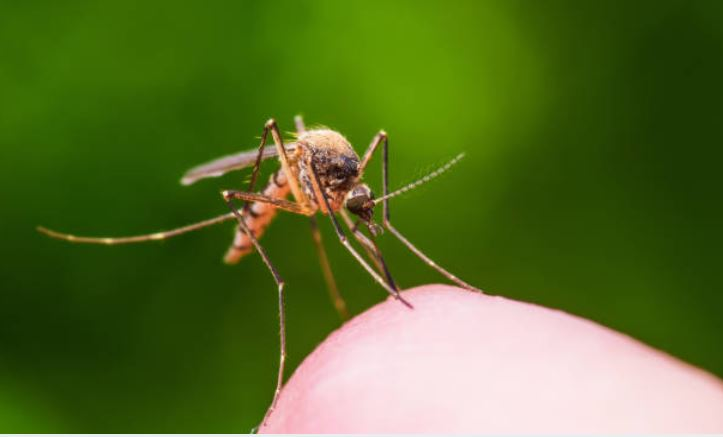dengue_mosquito: (108, 113, 488, 296)
